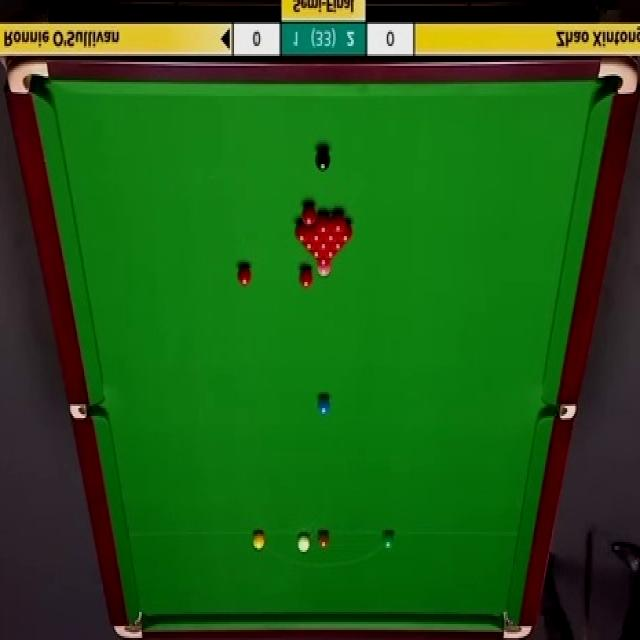black-ball: (315, 148, 331, 172)
blue-ball: (316, 394, 332, 417)
brown-ball: (318, 530, 330, 549)
green-ball: (382, 531, 394, 550)
pink-ball: (317, 265, 332, 279)
red-ball: (298, 263, 313, 290), (236, 263, 252, 287), (331, 210, 346, 234), (315, 212, 331, 234), (302, 203, 316, 226), (295, 222, 310, 242), (339, 222, 353, 242), (301, 241, 319, 252), (311, 225, 323, 241), (323, 249, 339, 259), (330, 242, 347, 250), (324, 232, 337, 242), (308, 251, 324, 259), (316, 258, 332, 266), (318, 241, 331, 250)
white-ball: (296, 531, 312, 555)
yellow-ball: (253, 530, 264, 552)
